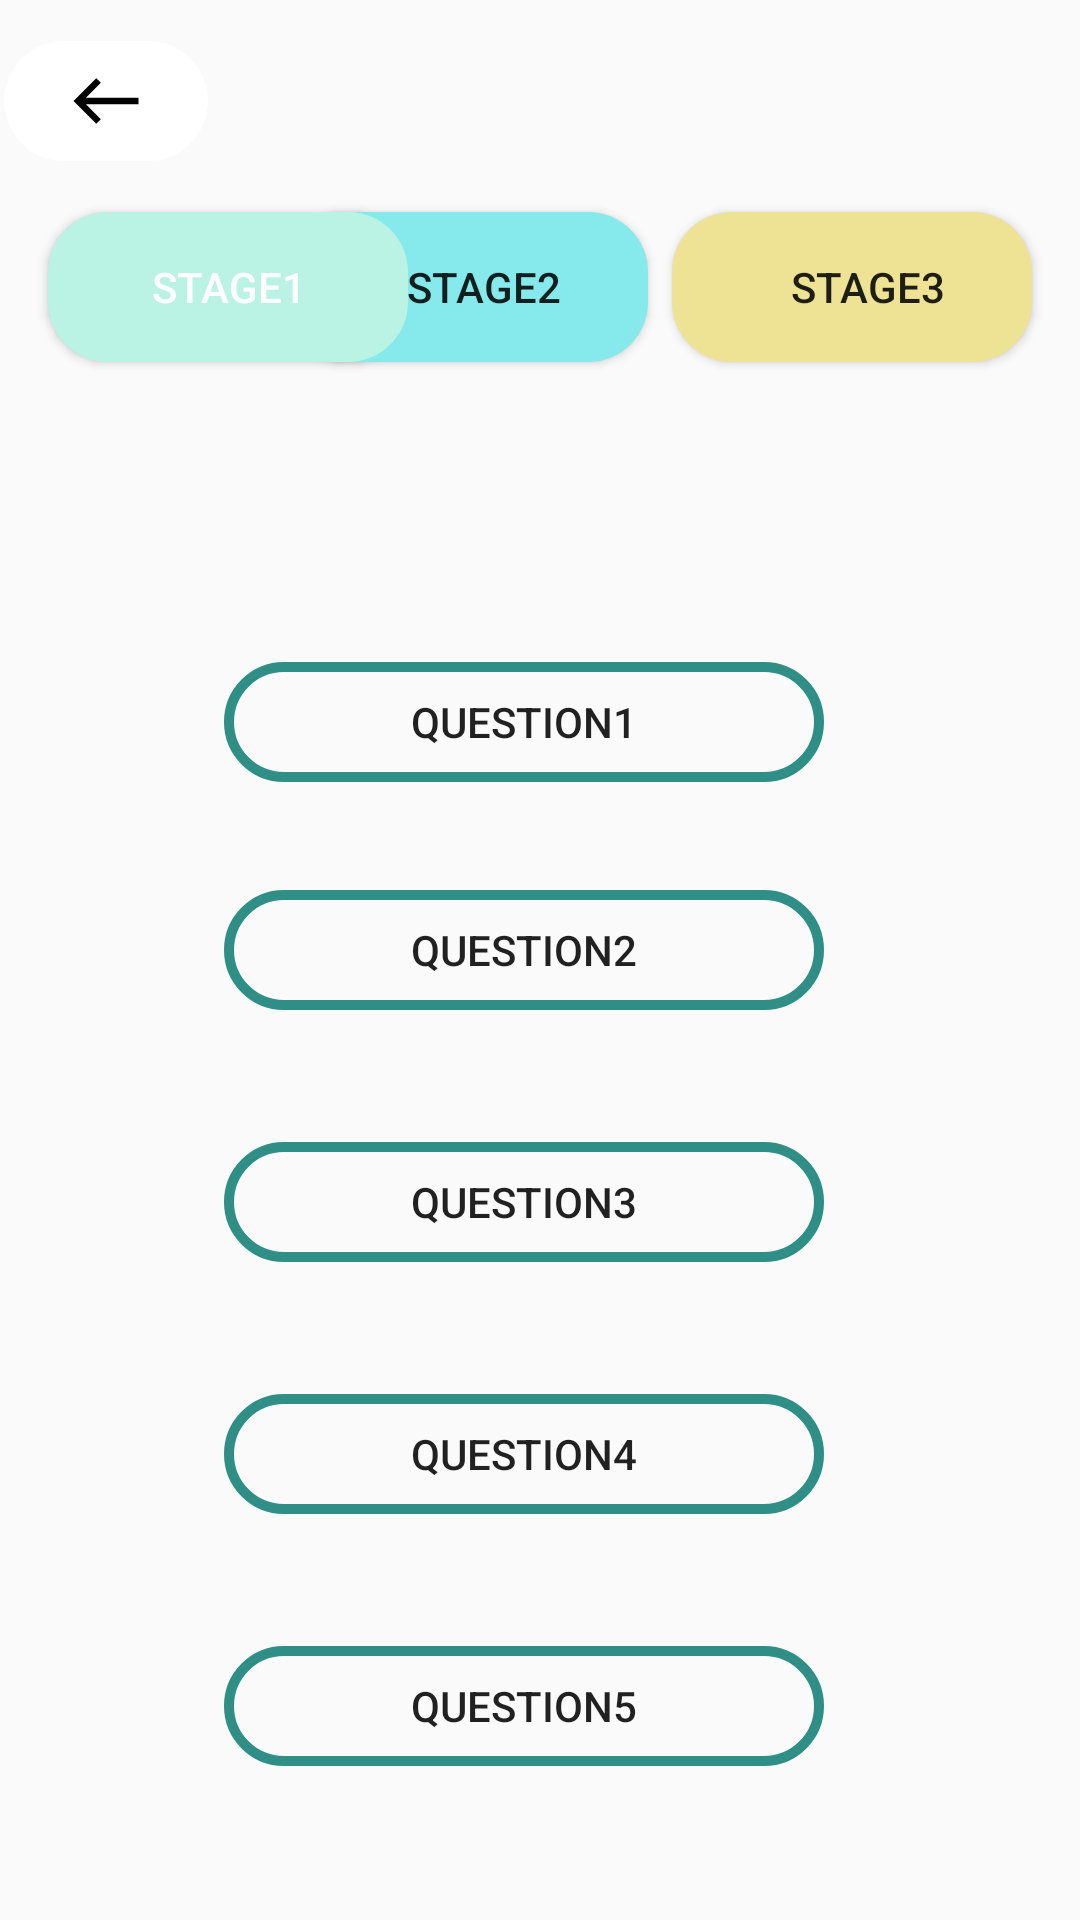

Icon bounding boxes for this 1080*1920 phone screenshot, format (x1, y1, x2, y2):
west: (73, 78, 139, 124)
